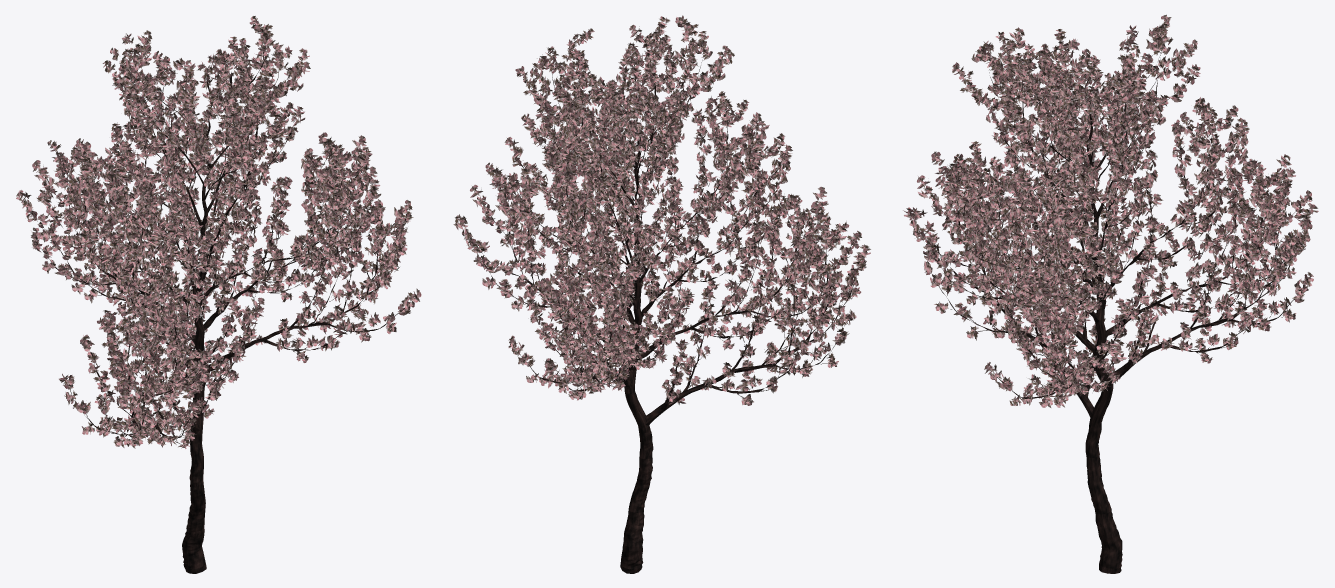
Rendered from LowPolyCherryTree.fbx.
3 views of the same model, side by side, from view 1: azimuth 30°, elevation 25°; view 2: azimuth 150°, elevation 25°; view 3: azimuth 270°, elevation 25° (orthographic). The views are drawn at different scales.
Parts seen in each view (by area): view 1: CherryTree1:bloss, CherryTree1:blossx, CherryTree1:blosstip2, CherryTree1:blossxti02, CherryTree1:bloss_co01, CherryTree1:bloss_copy, CherryTree1:blossx_c01, CherryTree1:blossx_cop, CherryTree1:b2, CherryTree1:trunk, CherryTree1:b1, CherryTree1:blosstip2_ (+2 smaller); view 2: CherryTree1:bloss, CherryTree1:blossx, CherryTree1:blosstip2, CherryTree1:blossxti02, CherryTree1:bloss_co01, CherryTree1:bloss_copy, CherryTree1:blossx_c01, CherryTree1:blossx_cop, CherryTree1:b2, CherryTree1:trunk, CherryTree1:b1, CherryTree1:blosstip2_ (+1 smaller); view 3: CherryTree1:bloss, CherryTree1:blossx, CherryTree1:blosstip2, CherryTree1:blossxti02, CherryTree1:bloss_co01, CherryTree1:blossx_c01, CherryTree1:bloss_copy, CherryTree1:blossx_cop, CherryTree1:trunk, CherryTree1:b2, CherryTree1:b1, CherryTree1:blosstip2_ (+1 smaller).
Part boxes in pixels (box(x1,y1,x2,y2)): CherryTree1:bloss: box(22, 47, 414, 448); CherryTree1:blossx: box(22, 45, 414, 448); CherryTree1:blosstip2: box(16, 36, 421, 408); CherryTree1:blossxti02: box(18, 37, 420, 404); CherryTree1:bloss_co01: box(60, 60, 389, 441); CherryTree1:bloss_copy: box(112, 27, 303, 182); CherryTree1:blossx_c01: box(56, 59, 389, 444); CherryTree1:blossx_cop: box(111, 28, 303, 183); CherryTree1:b2: box(34, 53, 404, 438); CherryTree1:trunk: box(182, 254, 209, 573); CherryTree1:b1: box(67, 72, 377, 433); CherryTree1:blosstip2_: box(103, 16, 310, 154); CherryTree1:bloss: box(456, 29, 866, 405); CherryTree1:blossx: box(453, 28, 865, 405); CherryTree1:blosstip2: box(455, 16, 870, 366); CherryTree1:blossxti02: box(455, 18, 870, 366); CherryTree1:bloss_co01: box(500, 39, 836, 403); CherryTree1:bloss_copy: box(523, 22, 725, 198); CherryTree1:blossx_c01: box(500, 39, 839, 404); CherryTree1:blossx_cop: box(523, 22, 728, 197); CherryTree1:b2: box(466, 38, 856, 411); CherryTree1:trunk: box(620, 244, 653, 573); CherryTree1:b1: box(508, 62, 828, 425); CherryTree1:blosstip2_: box(516, 15, 734, 146); CherryTree1:bloss: box(909, 41, 1312, 406); CherryTree1:blossx: box(910, 42, 1311, 407); CherryTree1:blosstip2: box(904, 29, 1318, 386); CherryTree1:blossxti02: box(903, 29, 1316, 382); CherryTree1:bloss_co01: box(950, 54, 1288, 398); CherryTree1:blossx_c01: box(947, 55, 1286, 397); CherryTree1:bloss_copy: box(960, 29, 1194, 173); CherryTree1:blossx_cop: box(959, 26, 1196, 180); CherryTree1:trunk: box(1085, 256, 1122, 573); CherryTree1:b2: box(922, 46, 1303, 398); CherryTree1:b1: box(955, 74, 1279, 417); CherryTree1:blosstip2_: box(952, 24, 1200, 139).
Bounding box in the file's own units: 466 × 627 × 437.
